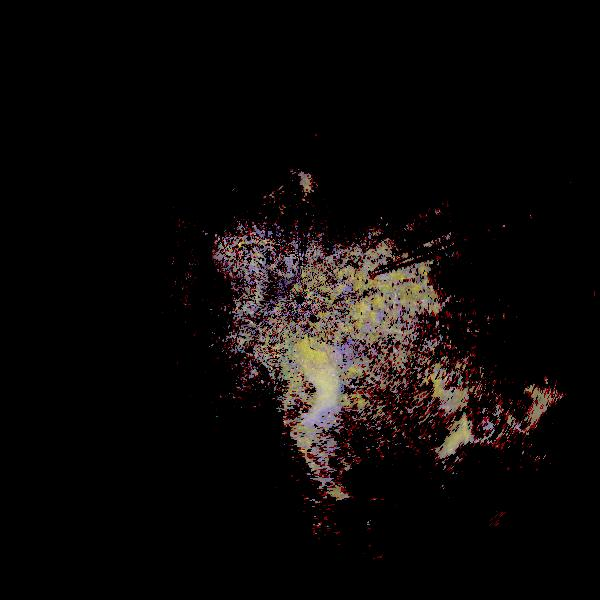roost: (224, 126, 323, 225), (256, 338, 349, 431), (440, 424, 500, 484)
